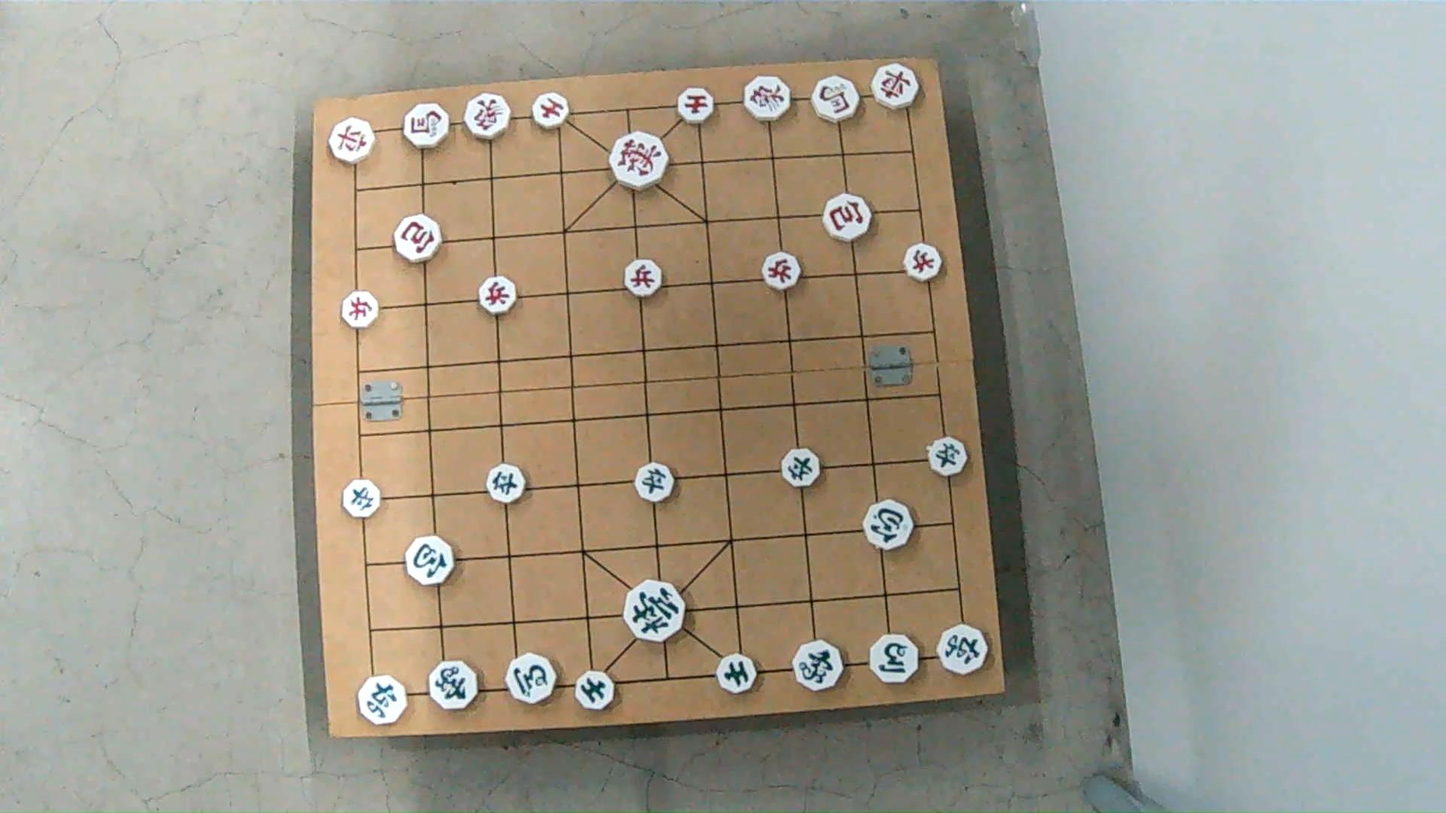cha_green: (934, 620, 987, 671), (358, 676, 411, 723)
cha_red: (871, 66, 923, 108), (327, 120, 378, 161)
jol_green: (925, 439, 971, 474), (631, 467, 676, 502), (780, 450, 824, 485), (484, 464, 526, 500), (340, 480, 383, 514)
jol_red: (758, 254, 802, 289), (902, 245, 946, 279), (624, 261, 665, 297), (477, 277, 519, 312), (342, 294, 382, 327)
ma_green: (508, 656, 560, 703), (867, 638, 920, 684)
ma_red: (809, 78, 862, 120), (402, 105, 450, 148)
po_green: (407, 539, 459, 584), (862, 503, 915, 547)
po_red: (822, 198, 874, 242), (392, 217, 441, 260)
sa_green: (576, 671, 618, 709), (716, 655, 759, 692)
sa_red: (674, 87, 718, 120), (532, 95, 572, 128)
sang_green: (791, 637, 844, 690), (429, 662, 481, 714)
sang_red: (464, 97, 514, 142), (740, 78, 792, 120)
wang_green: (624, 583, 686, 639)
wang_red: (609, 135, 668, 187)
